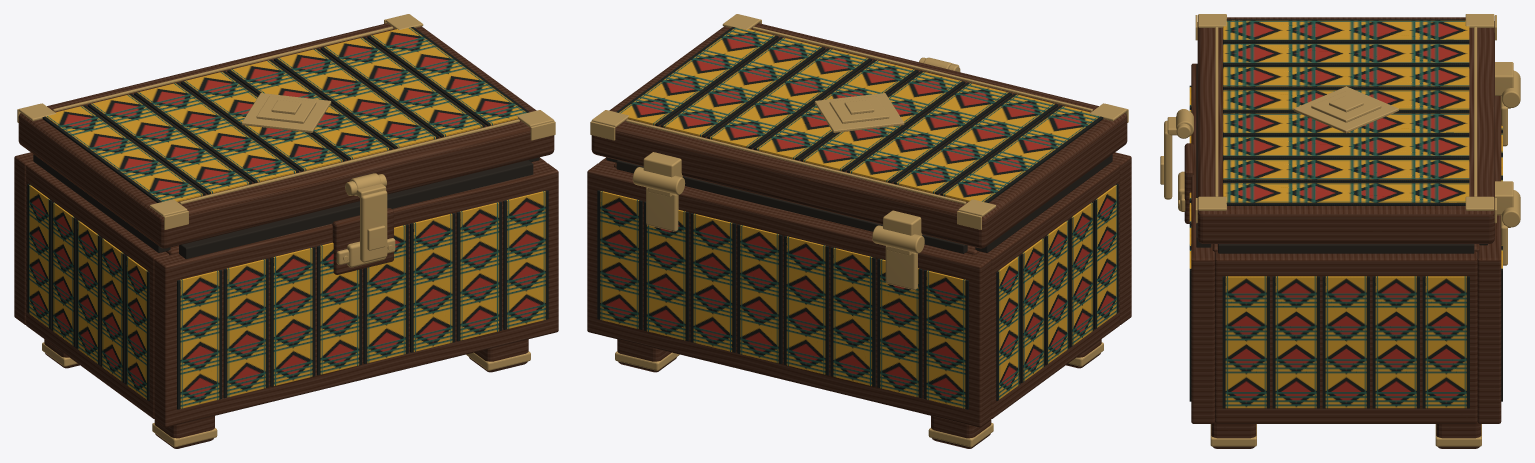
The model's file is ghana.glb.
3 renders of one model, left to right at view 1: azimuth 30°, elevation 25°; view 2: azimuth 150°, elevation 25°; view 3: azimuth 270°, elevation 25°, orthographic. The views are drawn at different scales.
Parts seen in each view (by area): view 1: Lid / polished slab, Cocoa / long wall, Cocoa / side wall, Kente / body strip.002, Kente / body strip.005, Kente / body strip.001, Kente / body strip.006, Kente / body strip.007, Kente / body strip, Kente / lid strip 6, Kente / lid strip 1, Kente / lid strip 2 (+25 smaller); view 2: Lid / polished slab, Cocoa / long wall.001, Cocoa / side wall, Kente / body strip.010, Kente / body strip.013, Kente / body strip.012, Kente / body strip.015, Kente / body strip.011, Kente / body strip.008, Kente / lid strip 6, Kente / lid strip 1, Kente / lid strip 2 (+29 smaller); view 3: Lid / polished slab, Cocoa / side wall.001, Kente / side strip.005, Kente / side strip.006, Kente / side strip.007, Kente / side strip.008, Kente / side strip.009, Kente / lid strip 1, Kente / lid strip 5, Kente / lid strip 6, Kente / lid strip 2, Kente / lid strip 0 (+26 smaller).
Part boxes in pixels (left/top/right/bottom): Lid / polished slab: left=18, top=23, right=554, bottom=248; Cocoa / long wall: left=154, top=163, right=558, bottom=427; Cocoa / side wall: left=26, top=162, right=168, bottom=418; Kente / body strip.002: left=270, top=247, right=315, bottom=386; Kente / body strip.005: left=410, top=213, right=455, bottom=352; Kente / body strip.001: left=223, top=258, right=268, bottom=398; Kente / body strip.006: left=456, top=201, right=501, bottom=341; Kente / body strip.007: left=503, top=190, right=548, bottom=329; Kente / body strip: left=177, top=270, right=221, bottom=409; Kente / lid strip 6: left=320, top=37, right=485, bottom=137; Kente / lid strip 1: left=87, top=94, right=252, bottom=194; Kente / lid strip 2: left=134, top=82, right=298, bottom=182; Lid / polished slab: left=591, top=23, right=1127, bottom=248; Cocoa / long wall.001: left=587, top=163, right=991, bottom=427; Cocoa / side wall: left=977, top=162, right=1119, bottom=418; Kente / body strip.010: left=830, top=247, right=875, bottom=386; Kente / body strip.013: left=690, top=213, right=735, bottom=352; Kente / body strip.012: left=737, top=224, right=782, bottom=363; Kente / body strip.015: left=597, top=190, right=642, bottom=329; Kente / body strip.011: left=784, top=235, right=828, bottom=375; Kente / body strip.008: left=924, top=270, right=968, bottom=409; Kente / lid strip 6: left=660, top=37, right=825, bottom=137; Kente / lid strip 1: left=893, top=94, right=1058, bottom=194; Kente / lid strip 2: left=847, top=82, right=1011, bottom=182; Lid / polished slab: left=1197, top=17, right=1494, bottom=243; Cocoa / side wall.001: left=1215, top=251, right=1477, bottom=423; Kente / side strip.005: left=1222, top=276, right=1269, bottom=408; Kente / side strip.006: left=1272, top=276, right=1319, bottom=408; Kente / side strip.007: left=1322, top=276, right=1369, bottom=408; Kente / side strip.008: left=1372, top=276, right=1419, bottom=408; Kente / side strip.009: left=1422, top=276, right=1469, bottom=408; Kente / lid strip 1: left=1223, top=42, right=1469, bottom=65; Kente / lid strip 5: left=1223, top=135, right=1469, bottom=158; Kente / lid strip 6: left=1223, top=158, right=1469, bottom=181; Kente / lid strip 2: left=1223, top=65, right=1469, bottom=88; Kente / lid strip 0: left=1223, top=19, right=1469, bottom=42.
Size of the model in its own units: 3.75 by 2.29 by 2.88.
4 materials, 2 textured.
